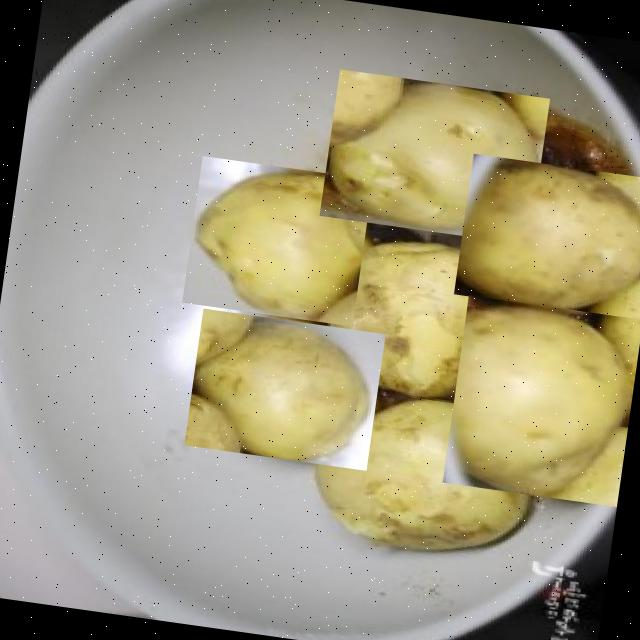Potato: (301, 385, 538, 566), (441, 295, 640, 507), (318, 69, 550, 245), (318, 230, 510, 408), (183, 308, 384, 471), (181, 156, 372, 326), (453, 154, 640, 321)
